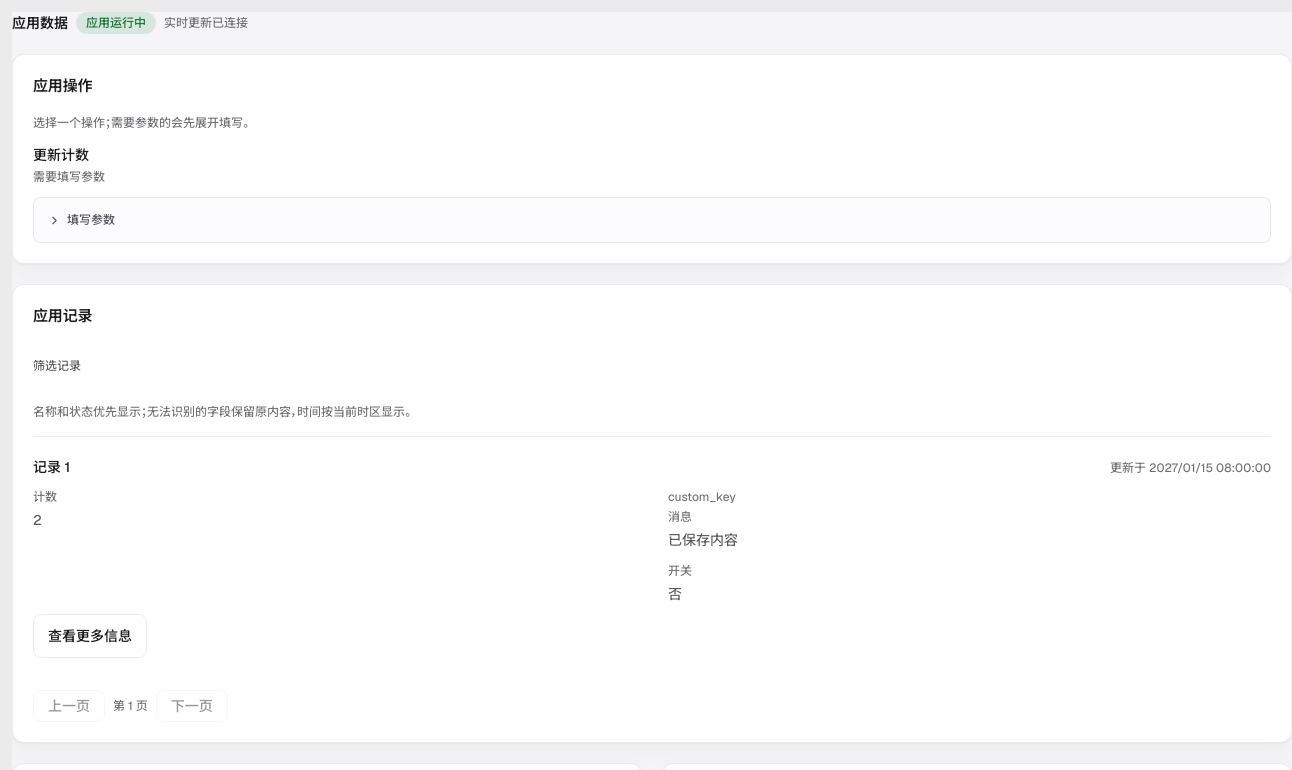
Test: 应用操作的授权、生命周期与明确用户意图 › operator 通过真实参数表单提交，未填写字段/default 不出现在请求中
The image size is (1292, 770).
Click the heading "填写参数": click(82, 220) top-left (48, 212), bottom-right (115, 228)
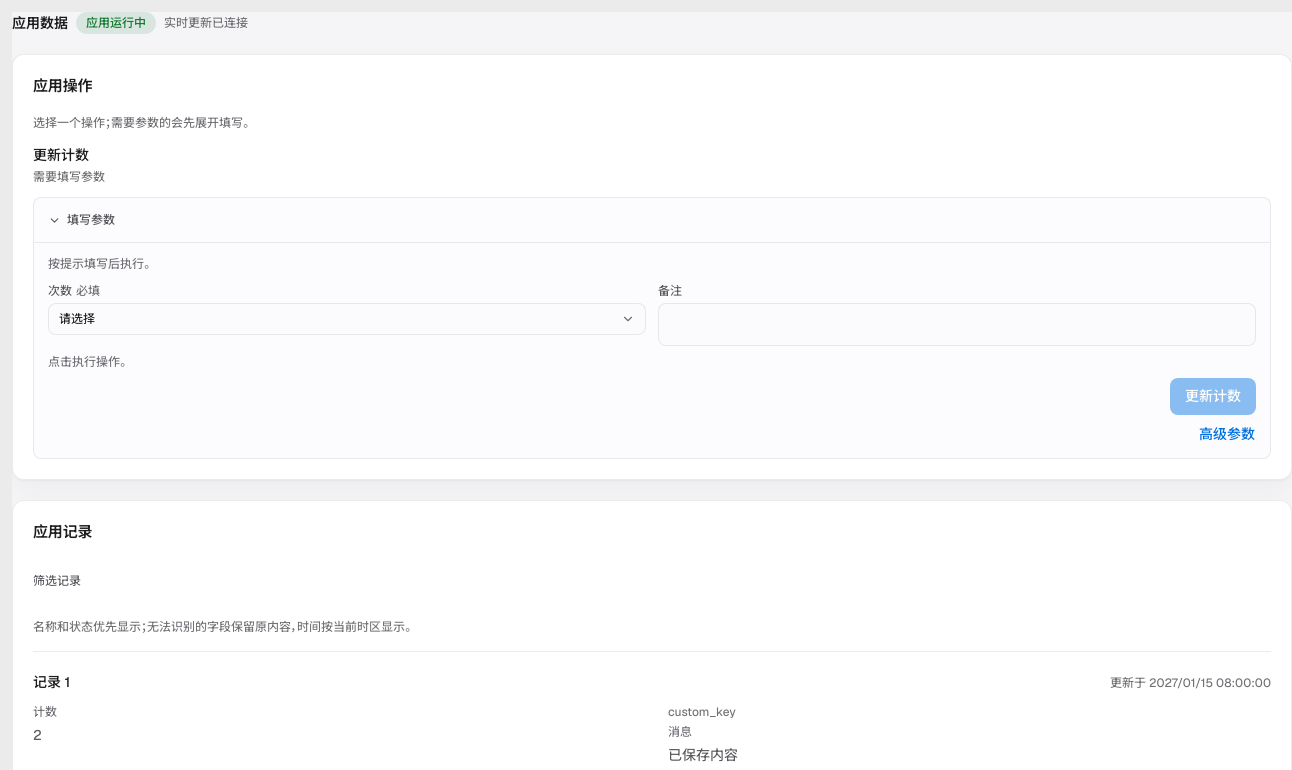
Check: the field labelled "备注" is empty, box top-left (658, 302), bottom-right (1256, 346)
Check: the button with aria-label "执行「更新计数」" is disabled, box top-left (1170, 378), bottom-right (1256, 414)
Select "2" in the dropdown labelled "次数": (74, 290) top-left (48, 282), bottom-right (100, 298)
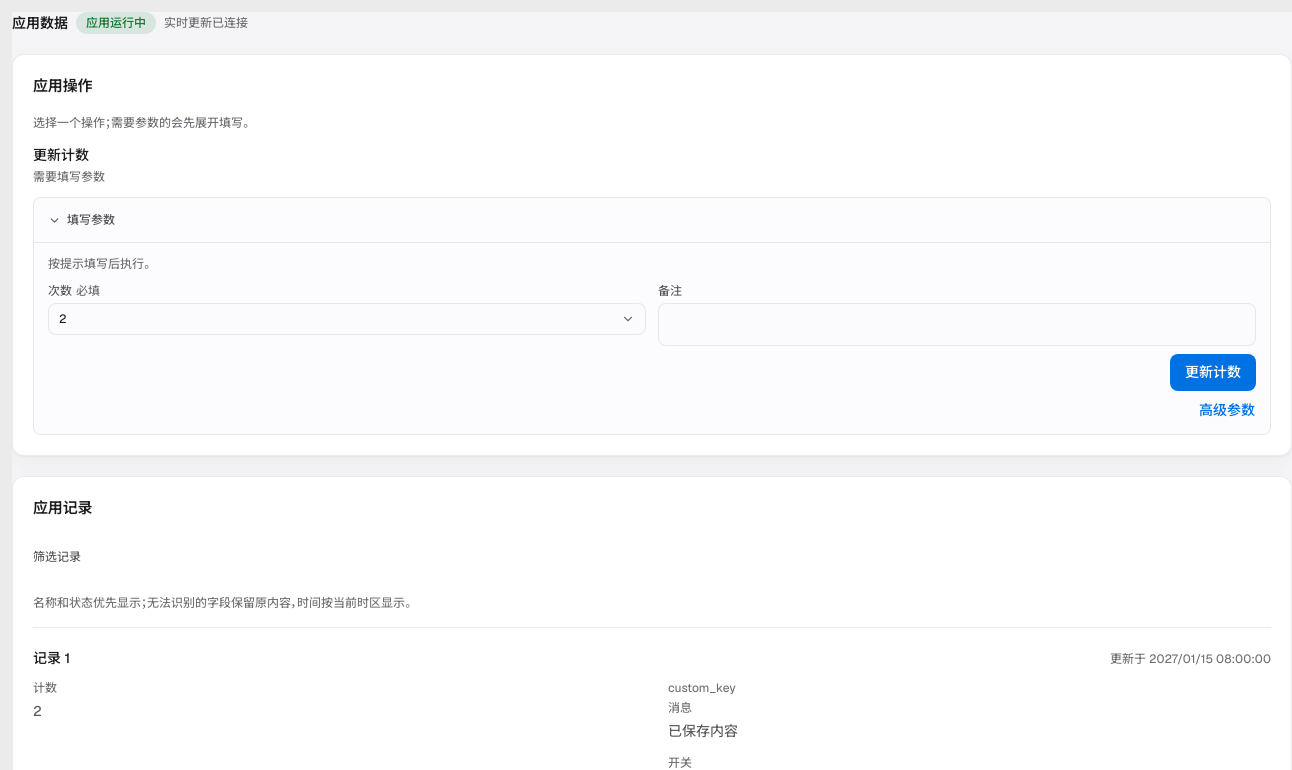
Click the button with aria-label "执行「更新计数」": click(1213, 372) top-left (1170, 354), bottom-right (1256, 390)
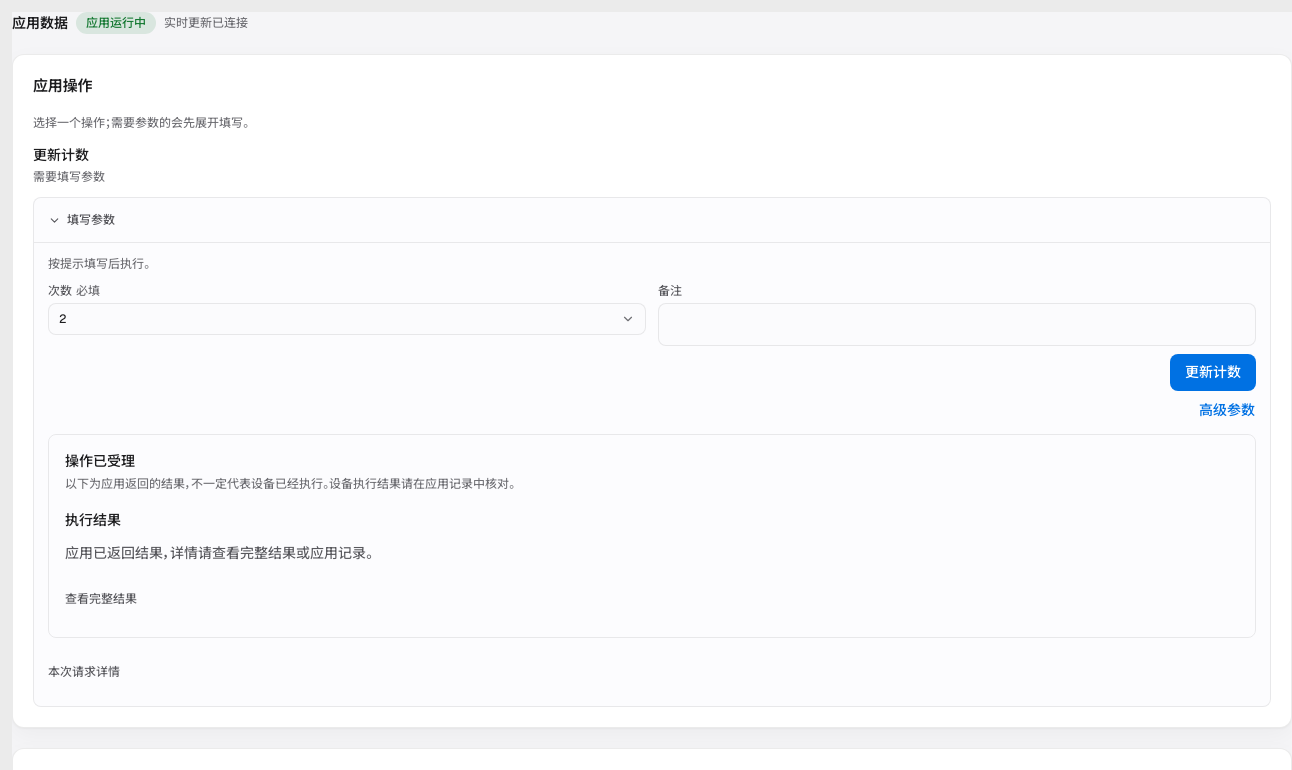
Check: the text "操作已受理" is shown, box top-left (65, 452), bottom-right (135, 470)
Check: the heading "执行结果" is shown, box top-left (65, 511), bottom-right (121, 529)
Check: the text "以下为应用返回的结果，不一定代表设备已经执行。设备执行结果请在应用记录中核对。" is shown, box top-left (65, 476), bottom-right (515, 492)
